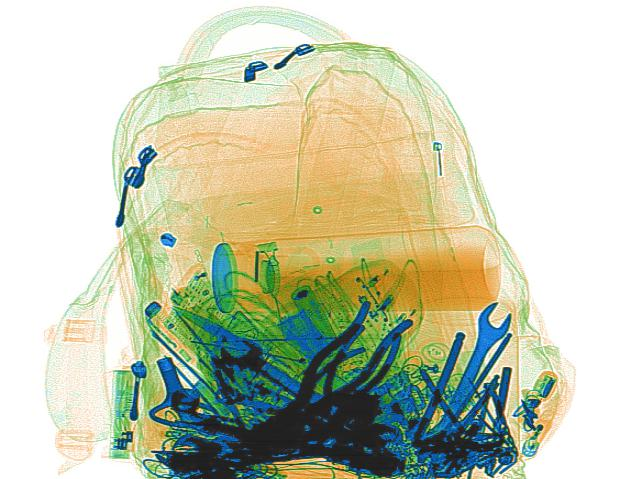battery: (289, 283, 344, 358)
lighter: (519, 407, 555, 458)
